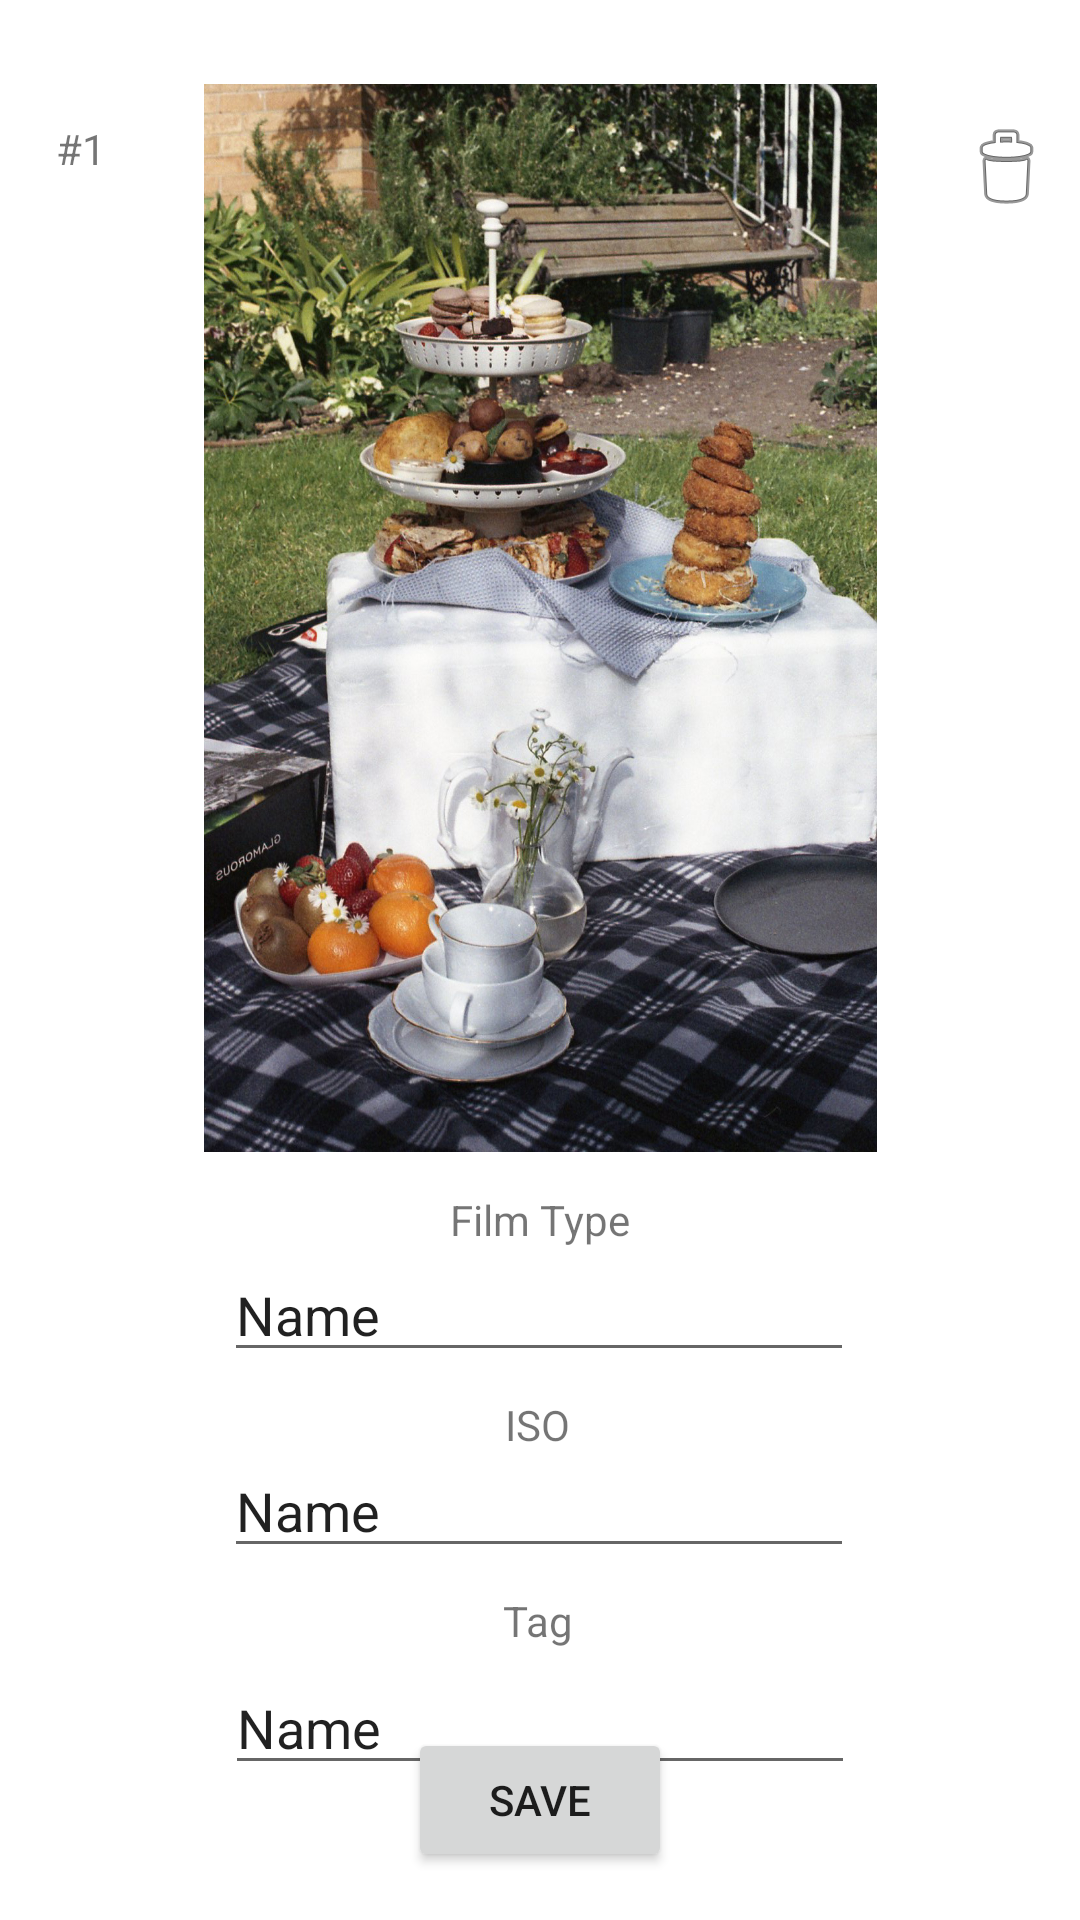

Named icons in this screenshot (1080px×1920px) and their centers, [x,y]:
delete: [1006,166]
